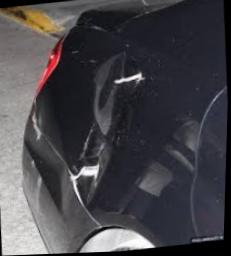Fender: (35, 28, 193, 208)
